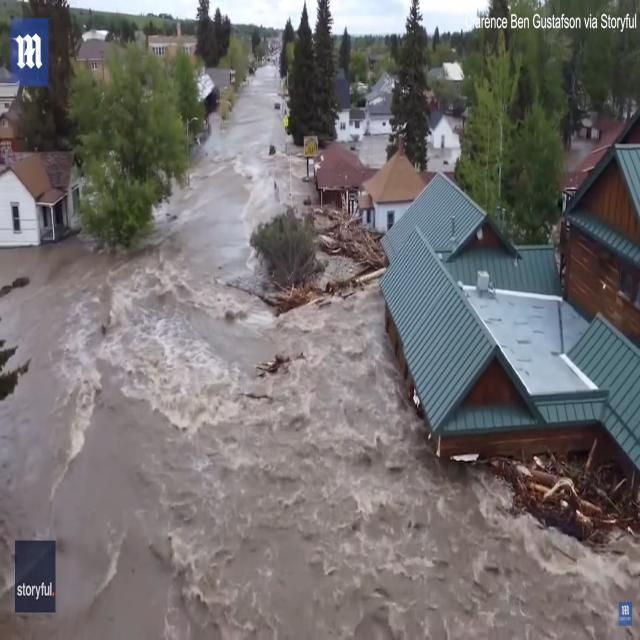flood: (0, 44, 640, 640), (351, 134, 389, 169)
house: (382, 230, 564, 435), (568, 136, 640, 274), (0, 156, 62, 247), (370, 148, 423, 226), (316, 141, 368, 197), (369, 94, 394, 136), (430, 110, 452, 149)
